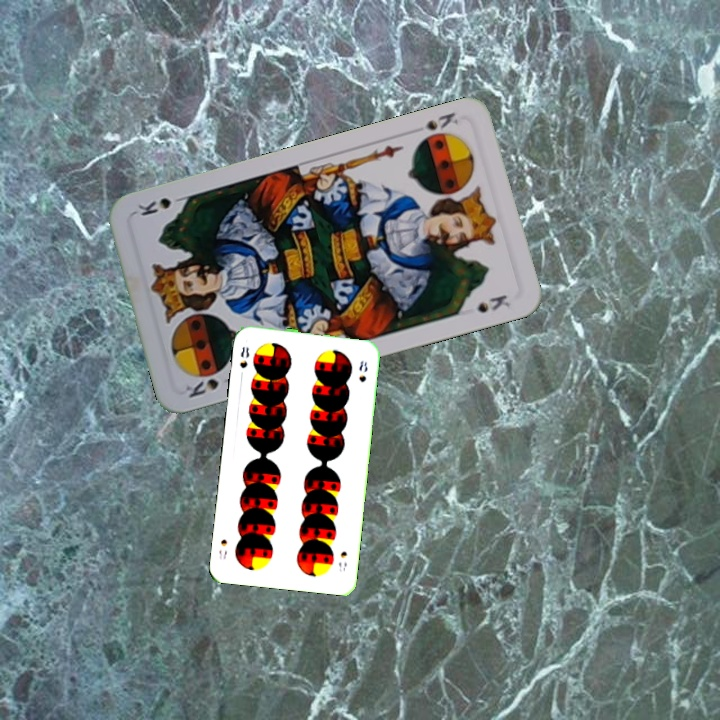S8: (236, 343, 252, 371), (335, 547, 350, 574)
SK: (181, 372, 238, 401), (422, 108, 461, 133)
